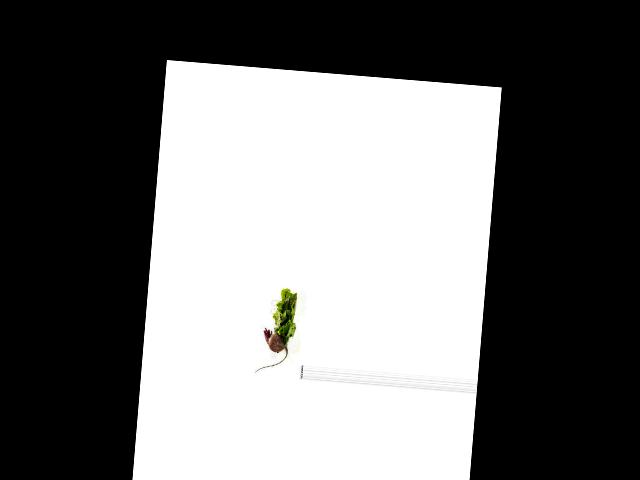beet: (255, 326, 290, 376)
